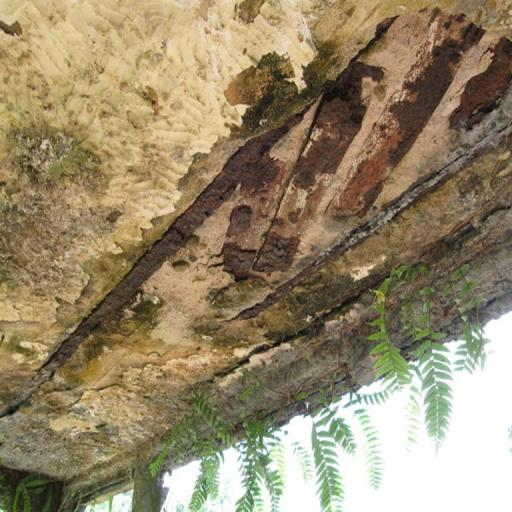spalling: (0, 0, 512, 483)
